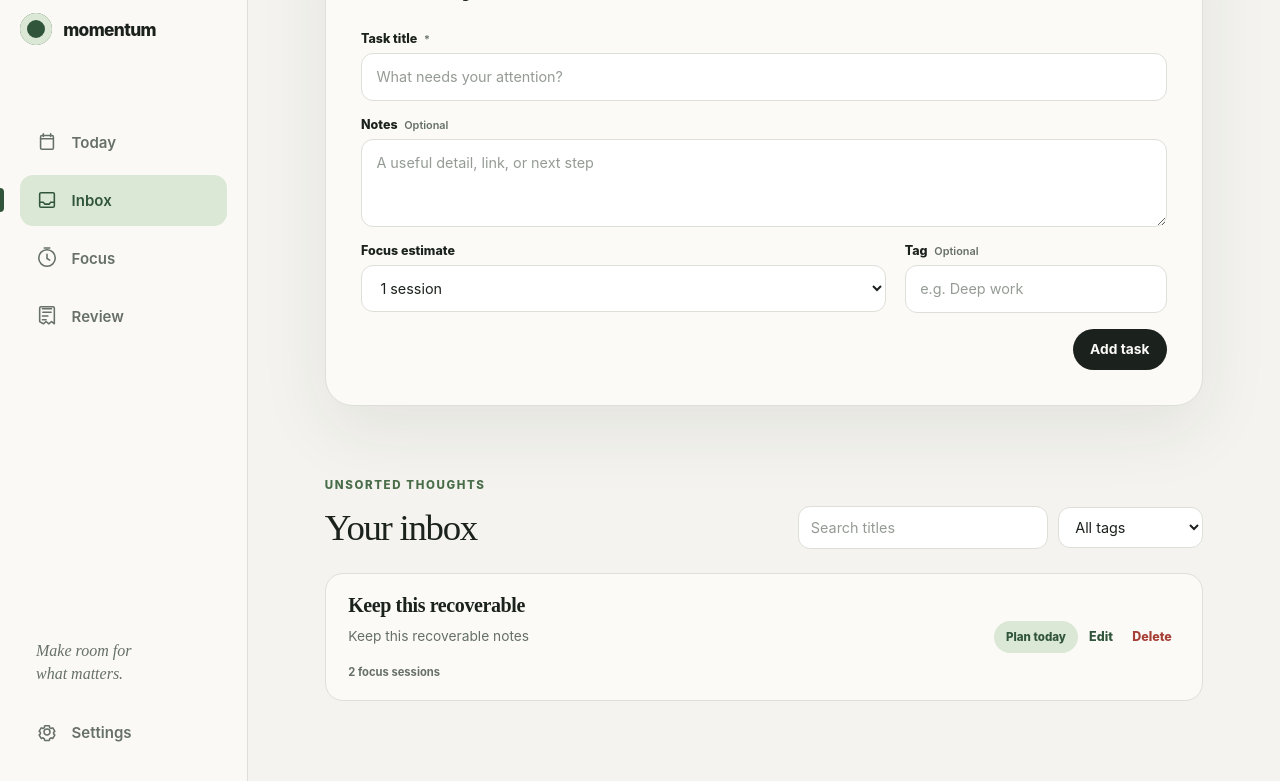
Inbox workspace › deletes only through an undoable action and can restore the task
(page scrolled)
Click the button named "Delete Keep this recoverable". click: {"x": 1152, "y": 637}
box: 1124,621 -> 1180,653
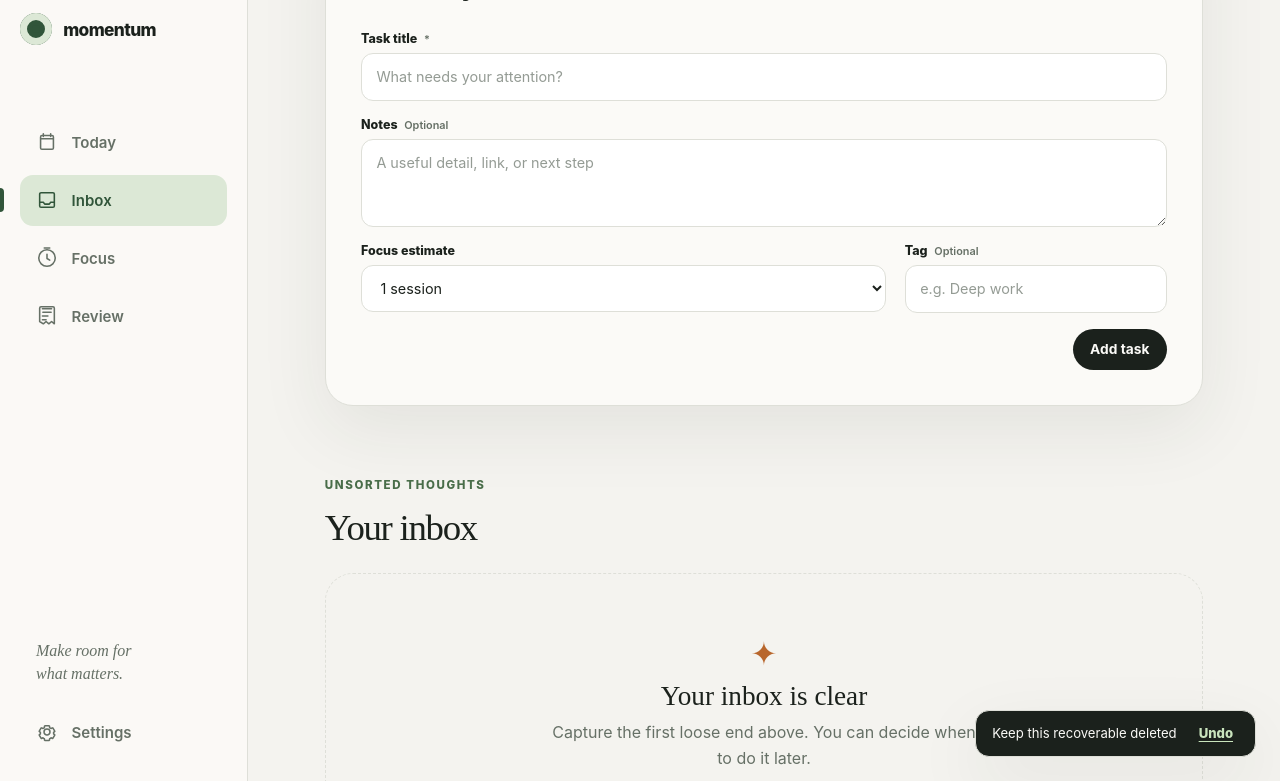
Click the button "Undo". click: {"x": 1216, "y": 733}
box: 1193,724 -> 1239,742
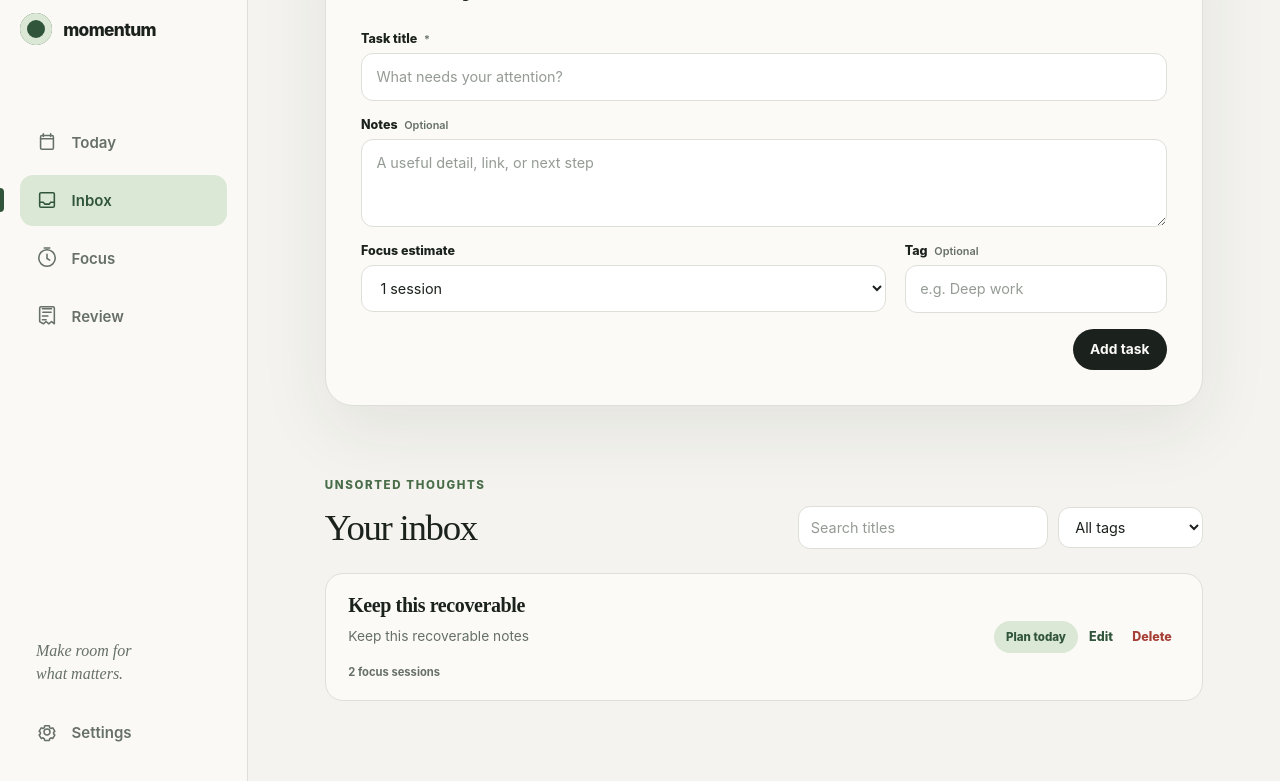
Expected: the heading "Keep this recoverable" is shown, 348,594 -> 525,617
